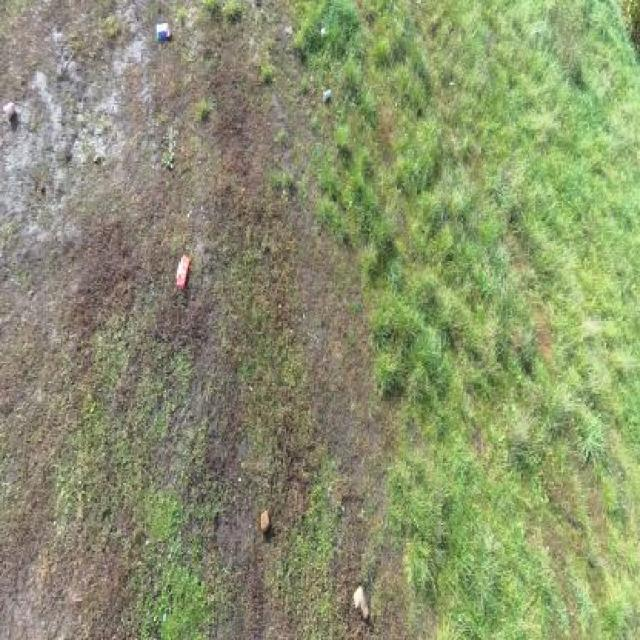Garbage: (353, 584, 369, 621), (176, 253, 190, 291), (3, 99, 16, 121), (259, 509, 271, 531), (156, 23, 170, 39), (318, 26, 327, 38), (323, 88, 331, 99)
